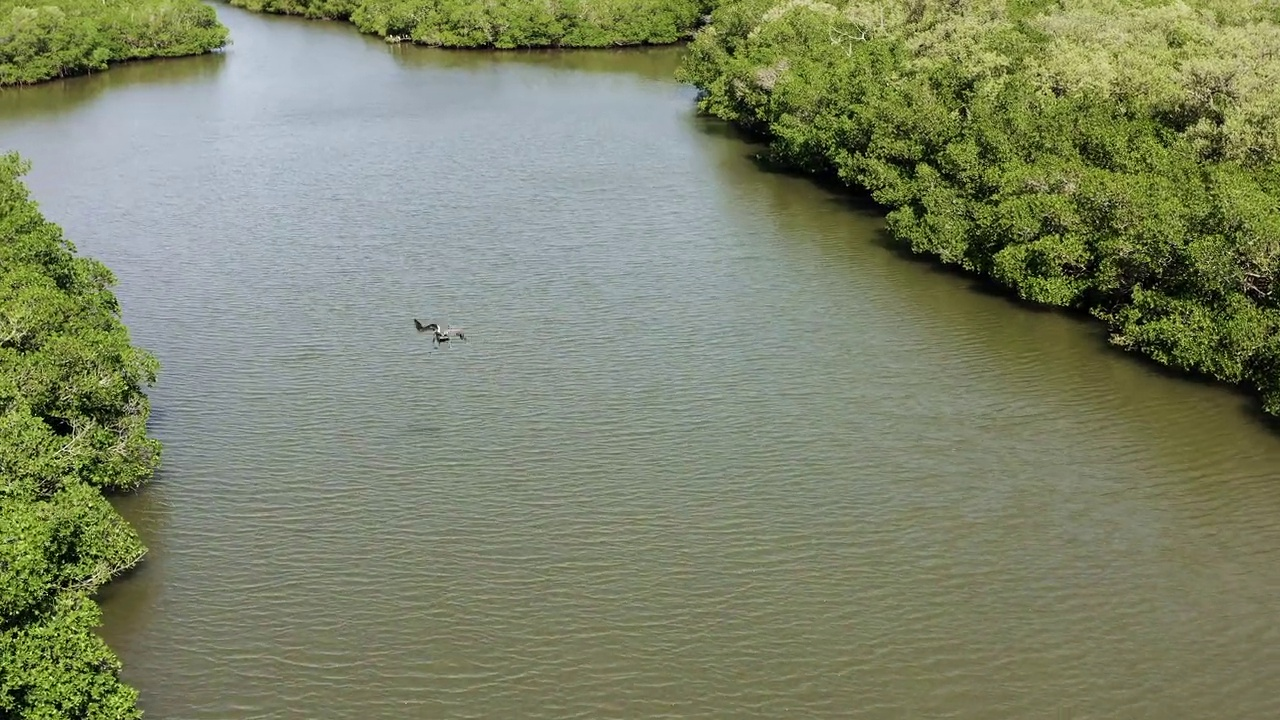bird: (412, 317, 469, 353)
